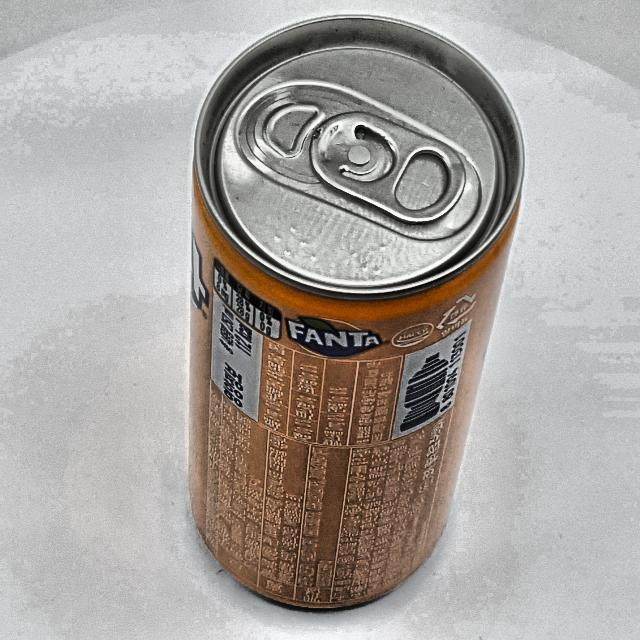fantaorange: (190, 16, 524, 608)
